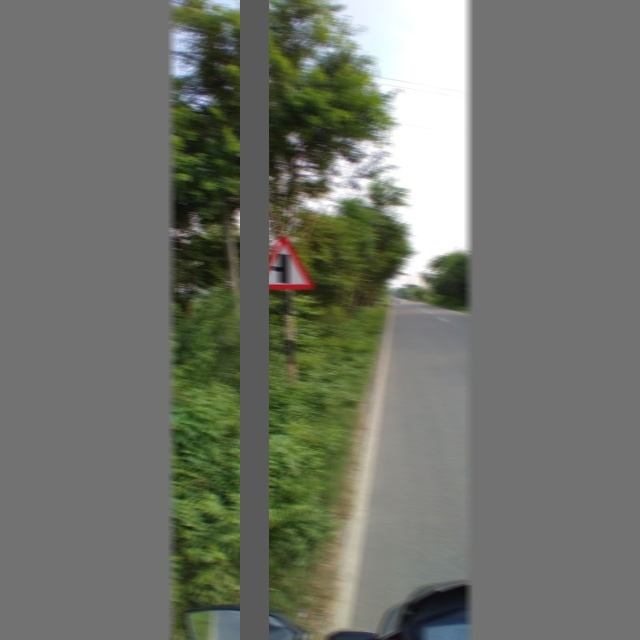Side_Road_Left: (250, 233, 319, 297)
